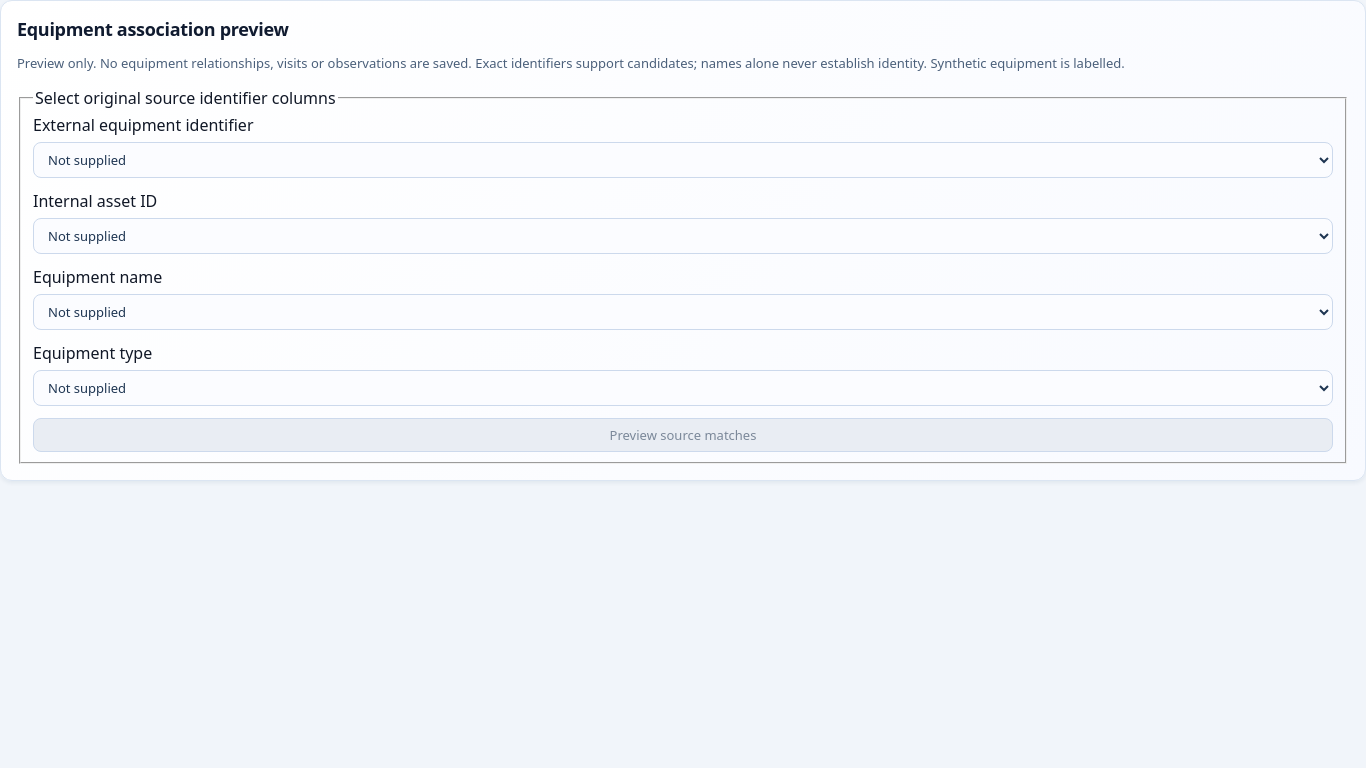
Test case: clears obsolete results when identifier choices change and ignores late responses
Select "equipment" in the dropdown labelled "External equipment identifier" at (683, 160), box [33,142,1333,178]
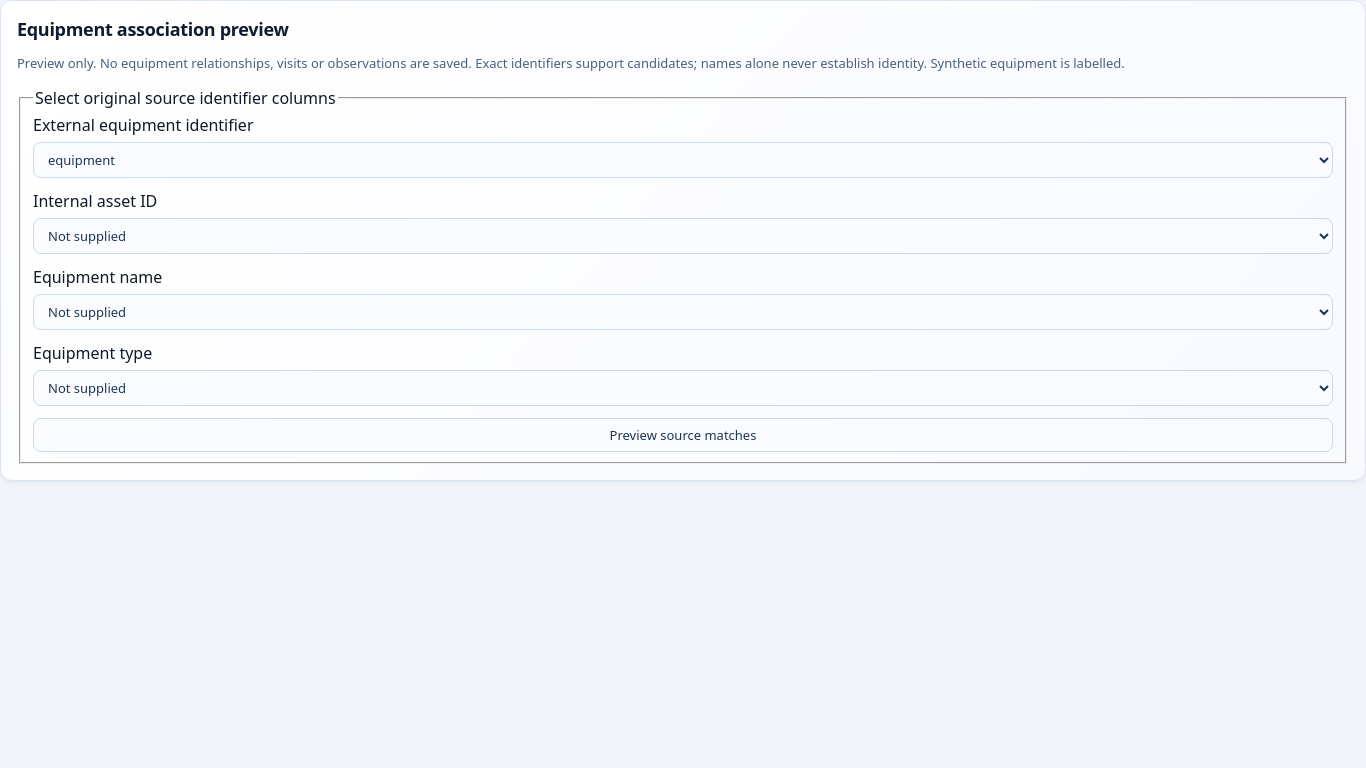
Click the button "Preview source matches" at (683, 435), box [33,418,1333,452]
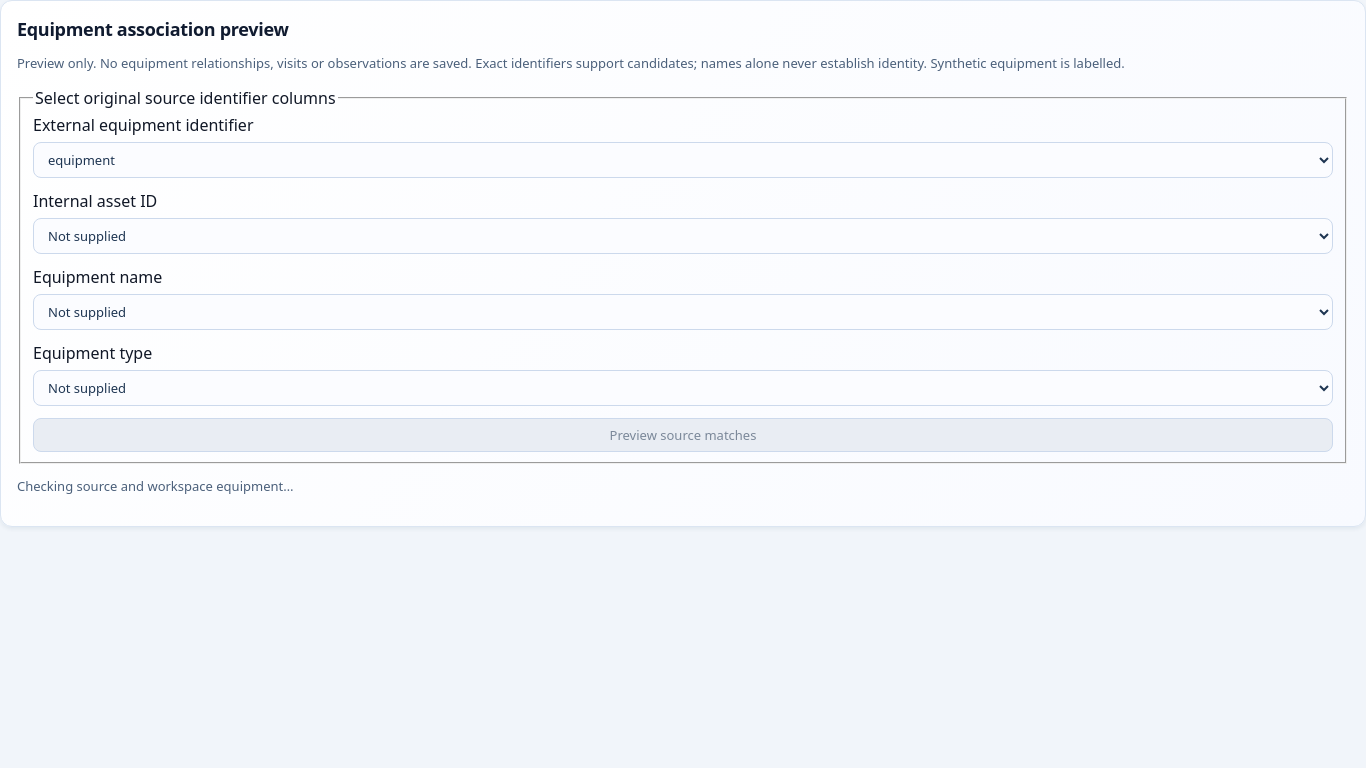
Select "name" in the dropdown labelled "External equipment identifier" at (683, 160), box [33,142,1333,178]
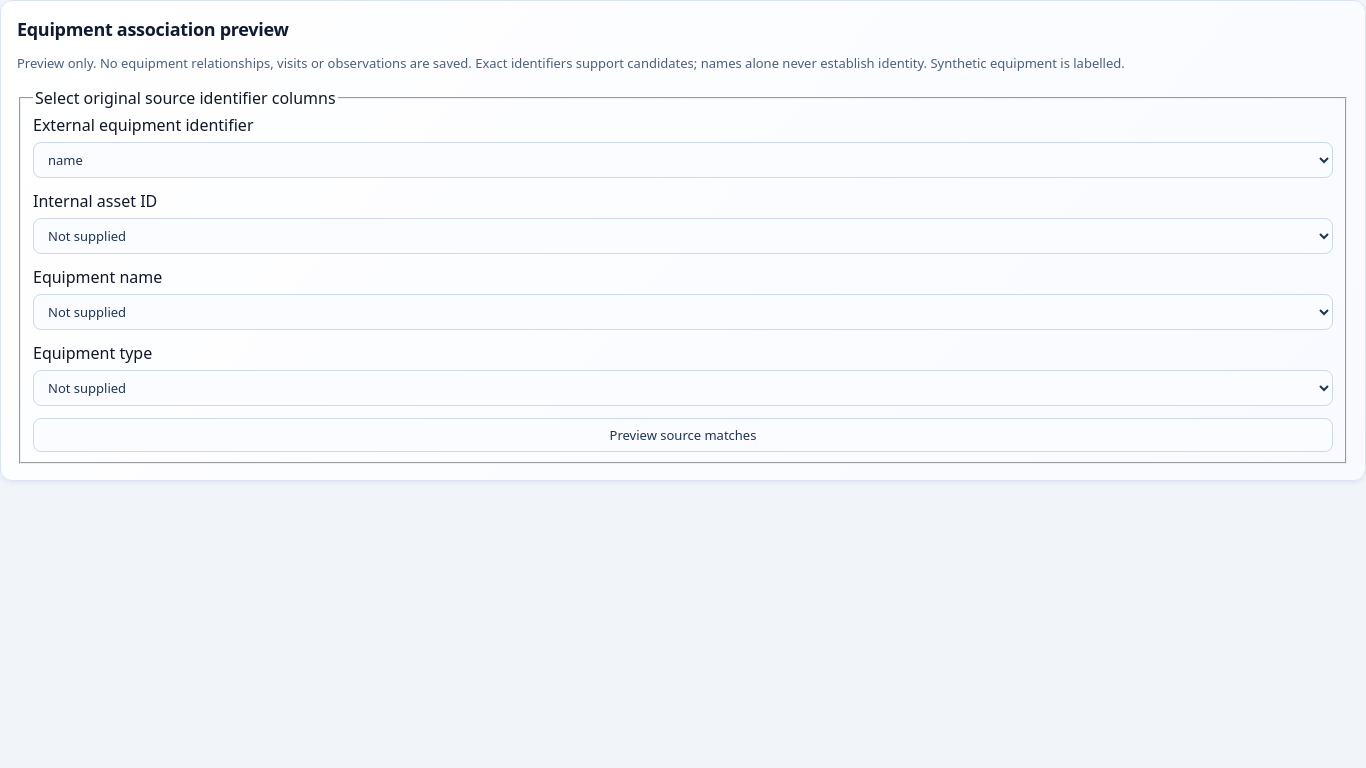
Expected: the text "Checking source" is gone
